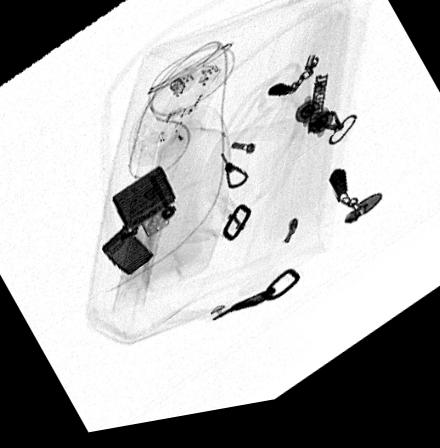Lighter: (98, 171, 176, 281)
